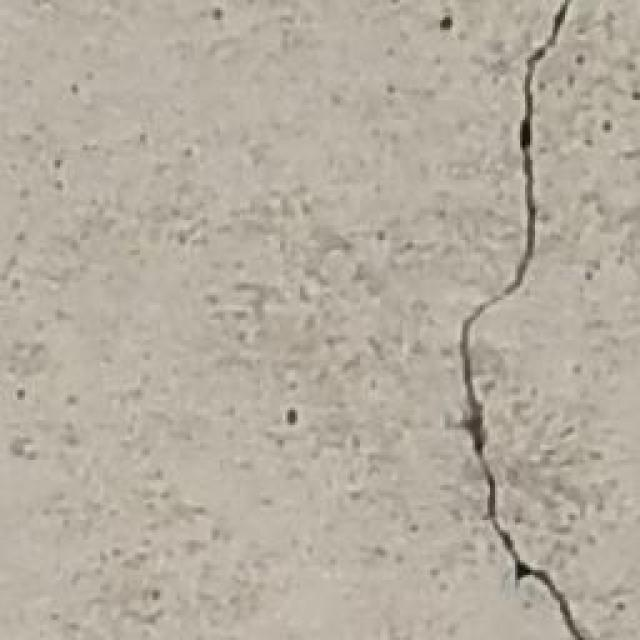concrete-crack: (460, 0, 585, 640)
